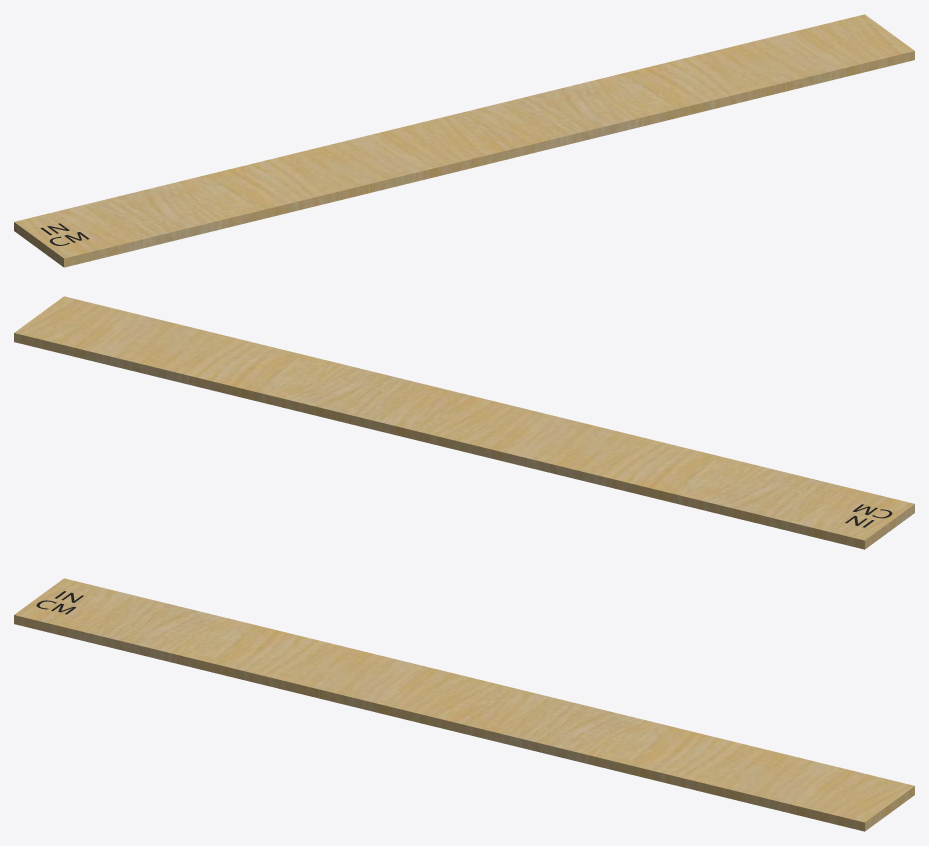
3 views of the same model, one above another, from view 1: azimuth 30°, elevation 25°; view 2: azimuth 150°, elevation 25°; view 3: azimuth 330°, elevation 25° (orthographic).
Parts seen in each view (by area): view 1: SketchUp; view 2: SketchUp; view 3: SketchUp.
Part boxes in pixels (bbox=[...]): SketchUp: bbox=[14, 14, 914, 267]; SketchUp: bbox=[14, 296, 914, 549]; SketchUp: bbox=[14, 578, 914, 831].
Bounding box in the file's own units: 12.25 × 1.25 × 0.1256.
2 materials, 1 textured.
